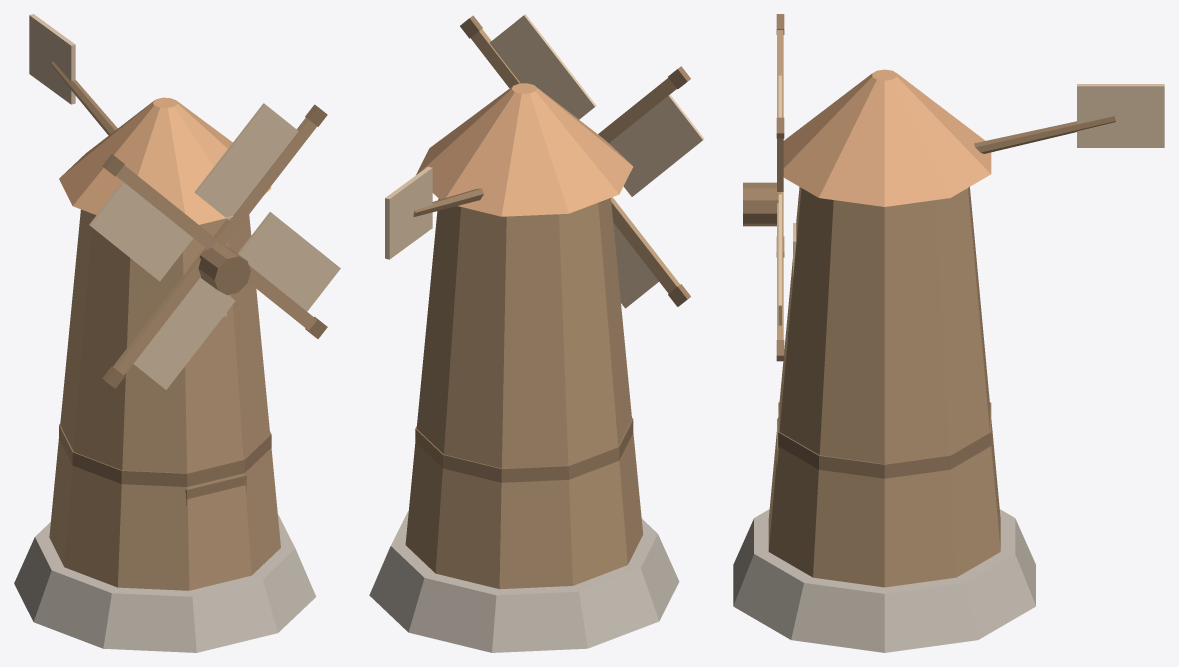
File: windmill.glb
The picture shows the model from 3 angles, left to right: view 1: azimuth 30°, elevation 25°; view 2: azimuth 150°, elevation 25°; view 3: azimuth 270°, elevation 25°; orthographic projection. The views are drawn at different scales.
Visible parts, largest first — view 1: shaft, base, cap, sail_0, sail_1, sail_3, sail_2, band_1, tail_fin, arm_2, arm_0, hub (+4 smaller); view 2: shaft, base, cap, sail_1, sail_0, band_1, tail_fin, sail_2, arm_2, arm_1, arm_0, tail_beam; view 3: shaft, base, cap, tail_fin, band_1, hub, tail_beam, arm_3.
Boxes of the visible parts, left/top/right/bottom form: shaft: left=49, top=209, right=280, bottom=590; base: left=14, top=515, right=316, bottom=652; cap: left=59, top=97, right=271, bottom=224; sail_0: left=194, top=103, right=298, bottom=220; sail_1: left=89, top=181, right=193, bottom=281; sail_3: left=237, top=212, right=340, bottom=311; sail_2: left=133, top=277, right=235, bottom=389; band_1: left=59, top=424, right=271, bottom=486; tail_fin: left=29, top=14, right=75, bottom=104; arm_2: left=113, top=248, right=207, bottom=375; arm_0: left=213, top=118, right=316, bottom=245; hub: left=198, top=244, right=250, bottom=295; shaft: left=405, top=198, right=643, bottom=589; base: left=369, top=511, right=679, bottom=652; cap: left=416, top=83, right=633, bottom=216; sail_1: left=609, top=94, right=704, bottom=196; sail_0: left=489, top=14, right=596, bottom=119; band_1: left=415, top=418, right=633, bottom=482; tail_fin: left=385, top=166, right=432, bottom=259; sail_2: left=613, top=223, right=658, bottom=308; arm_2: left=611, top=197, right=679, bottom=293; arm_1: left=598, top=78, right=676, bottom=142; arm_0: left=470, top=29, right=520, bottom=88; tail_beam: left=413, top=188, right=483, bottom=216; shaft: left=768, top=187, right=1000, bottom=587; base: left=733, top=509, right=1035, bottom=652; cap: left=783, top=69, right=991, bottom=206; tail_fin: left=1077, top=84, right=1164, bottom=147; band_1: left=778, top=402, right=991, bottom=478; hub: left=743, top=182, right=780, bottom=226; tail_beam: left=974, top=116, right=1115, bottom=153; arm_3: left=777, top=192, right=783, bottom=339.
Bounding box in the file's own units: 3.02 × 5.6 × 4.09.
